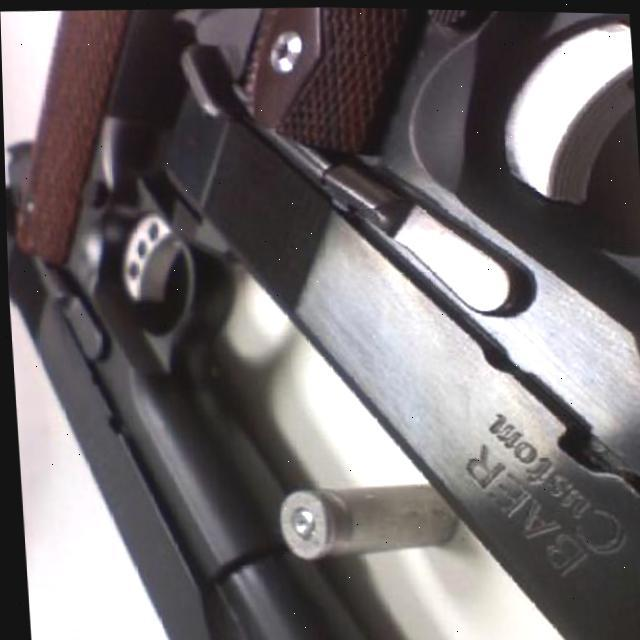gun: (148, 3, 640, 640), (0, 0, 382, 640)
